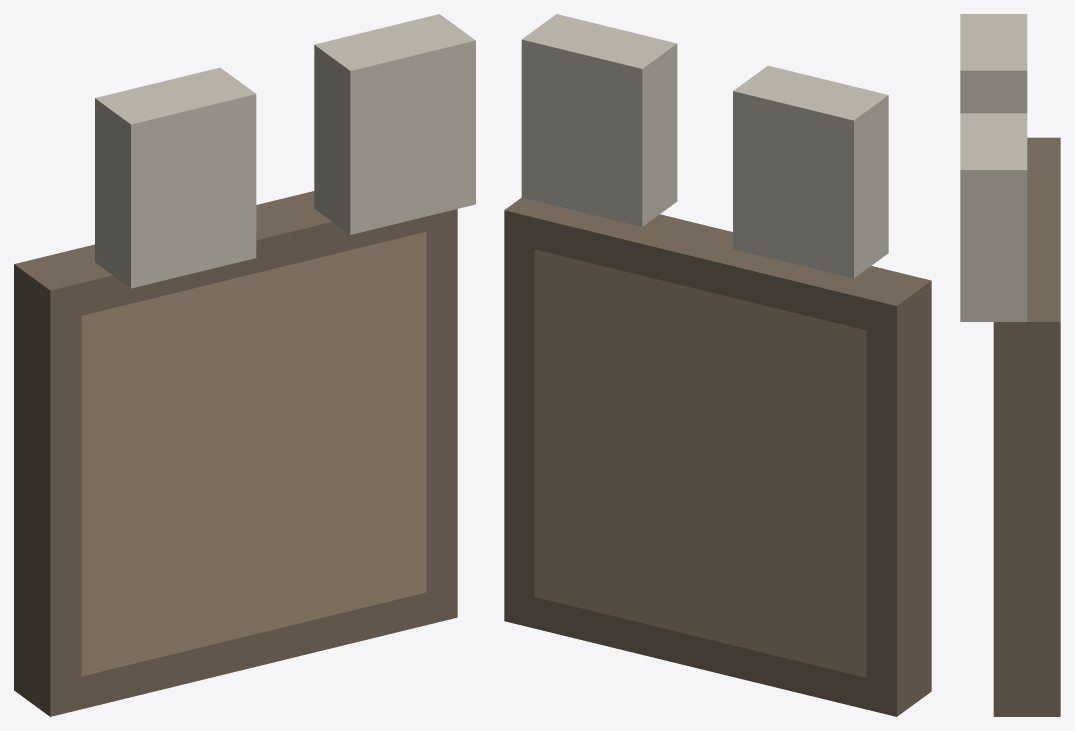
Rendered from trofeo_caza_01.glb.
3 renders of one model, left to right at view 1: azimuth 30°, elevation 25°; view 2: azimuth 150°, elevation 25°; view 3: azimuth 270°, elevation 25°, orthographic. The views are drawn at different scales.
Parts seen in each view (by area): view 1: trofeo_caza; view 2: trofeo_caza; view 3: trofeo_caza.
Part boxes in pixels (x1,y1,x2,y2): trofeo_caza: (14, 14, 475, 716); trofeo_caza: (504, 14, 931, 716); trofeo_caza: (960, 14, 1060, 716).
Bounding box in the file's own units: 1 × 1.38 × 0.2308.
